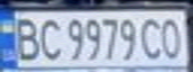7: (100, 15, 121, 61)
9: (60, 15, 84, 62), (118, 15, 142, 61), (81, 15, 103, 61)
B: (9, 14, 42, 62)
C: (33, 15, 63, 62), (139, 15, 169, 61)
O: (157, 15, 187, 61)
